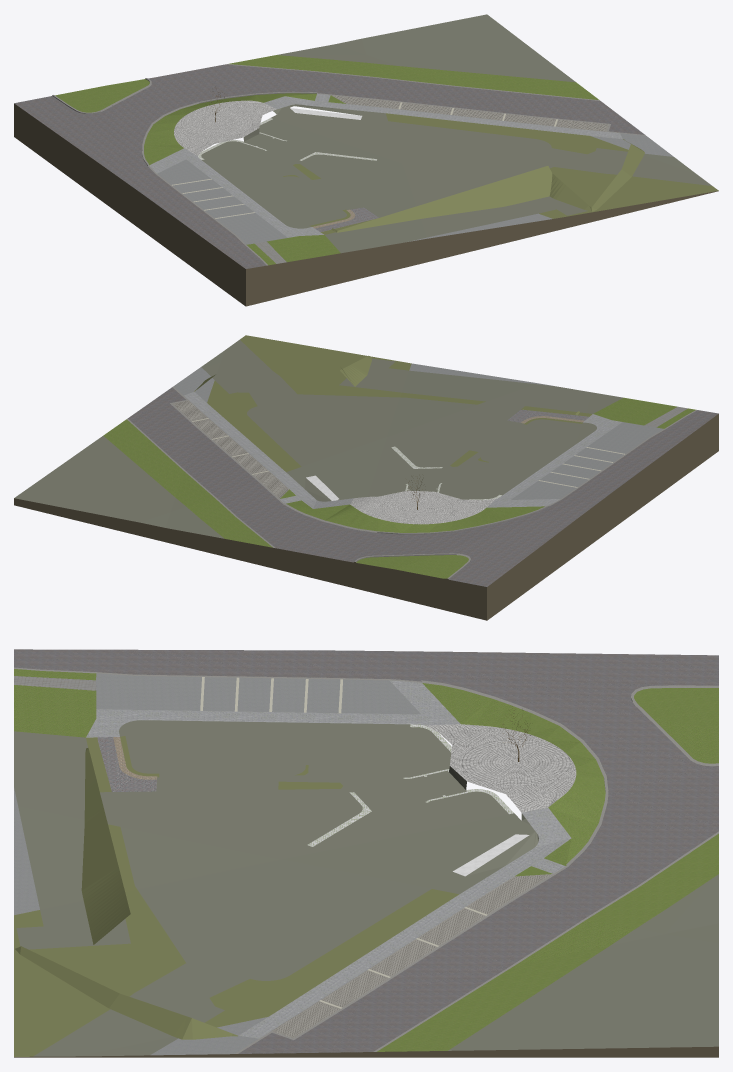
The model's file is streets.glb.
3 views of the same model, one above another, from view 1: azimuth 30°, elevation 25°; view 2: azimuth 150°, elevation 25°; view 3: azimuth 270°, elevation 25° (orthographic). The views are drawn at different scales.
Visible parts, largest first — view 1: site_hustopece; view 2: site_hustopece; view 3: site_hustopece.
Boxes of the visible parts, left/top/right/bottom form: site_hustopece: left=14, top=14, right=718, bottom=306; site_hustopece: left=14, top=335, right=718, bottom=620; site_hustopece: left=14, top=649, right=718, bottom=1057.
Size of the model in its own units: 60.04 by 8.05 by 50.95.
21 materials, 14 textured.
